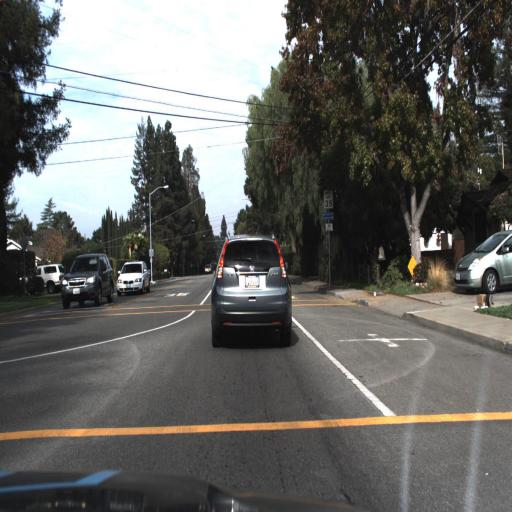car: (195, 214, 304, 363), (445, 229, 511, 295), (56, 249, 116, 318), (456, 226, 512, 296), (112, 257, 151, 296), (31, 259, 67, 292), (202, 260, 212, 278)
